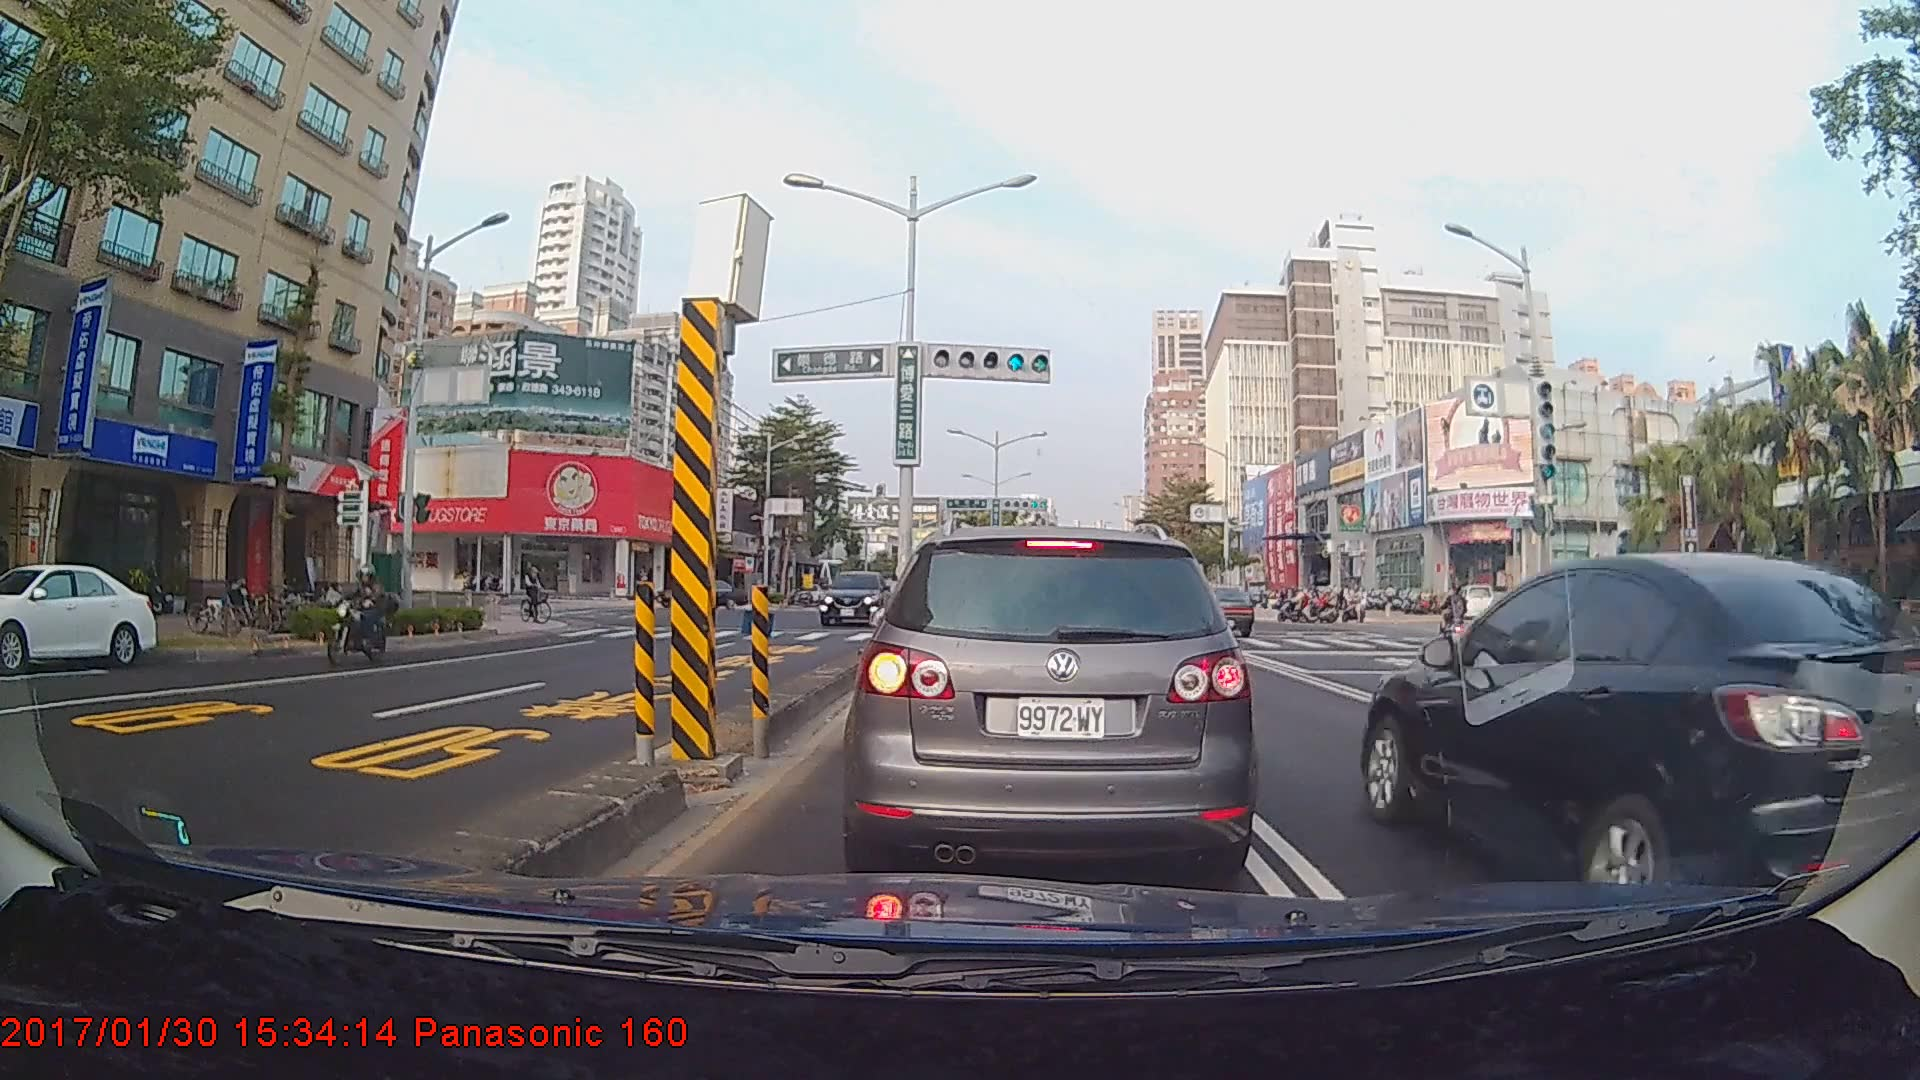rider: (323, 558, 398, 670), (518, 559, 561, 629)
vehicle: (1357, 549, 1920, 883), (853, 521, 1249, 886), (0, 561, 161, 671), (816, 568, 893, 626), (1176, 585, 1254, 637), (653, 577, 747, 611)
